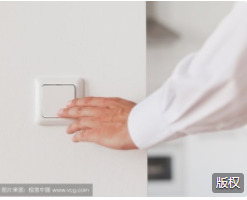switch: (39, 85, 61, 114)
